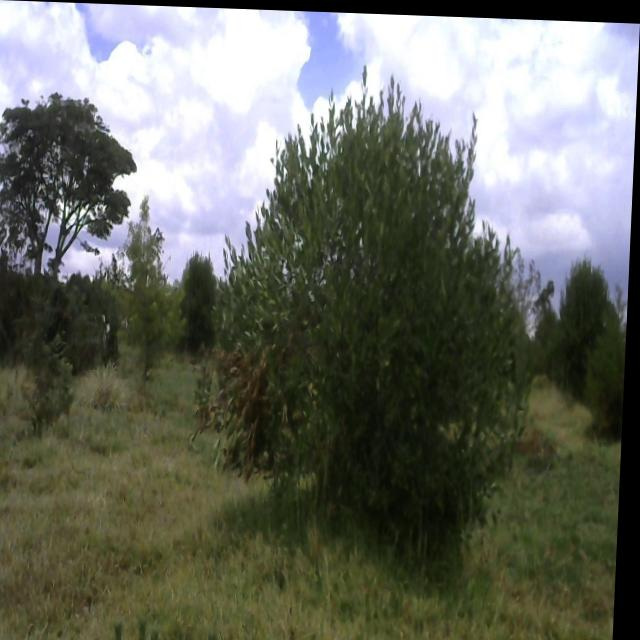Salix alba: (209, 51, 544, 538)
